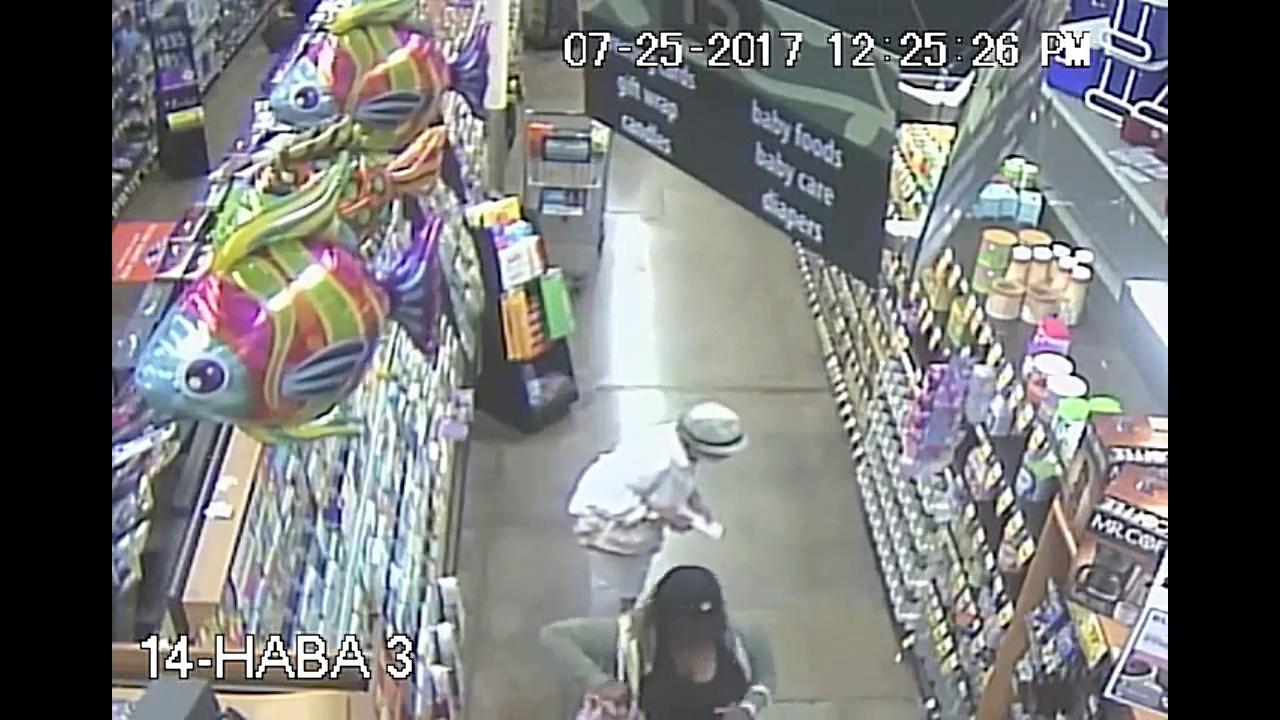Customer-Bagpack: (587, 494, 670, 569)
Regular: (500, 360, 795, 551), (531, 536, 790, 720)
